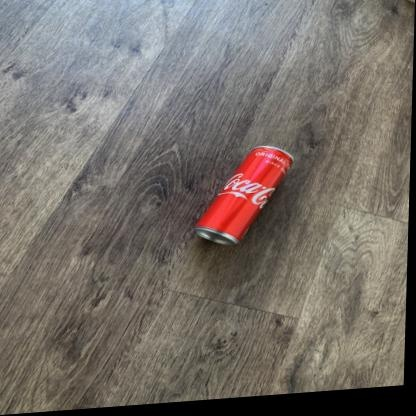trash: (194, 146, 292, 244)
